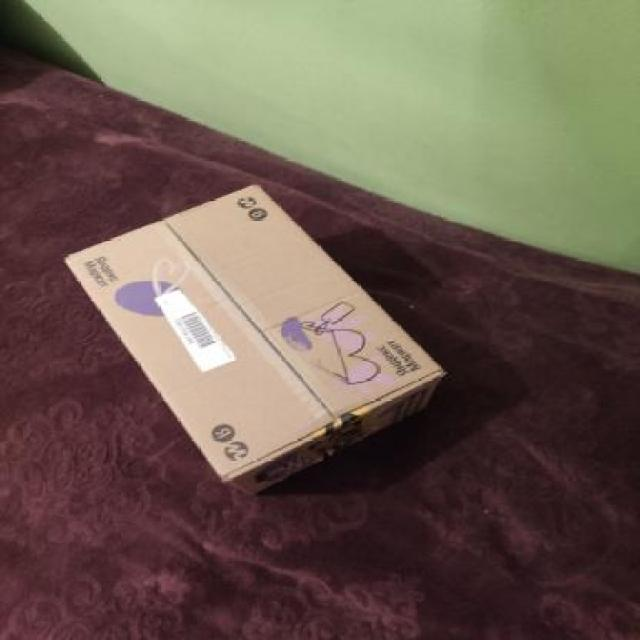box: (48, 176, 449, 508)
